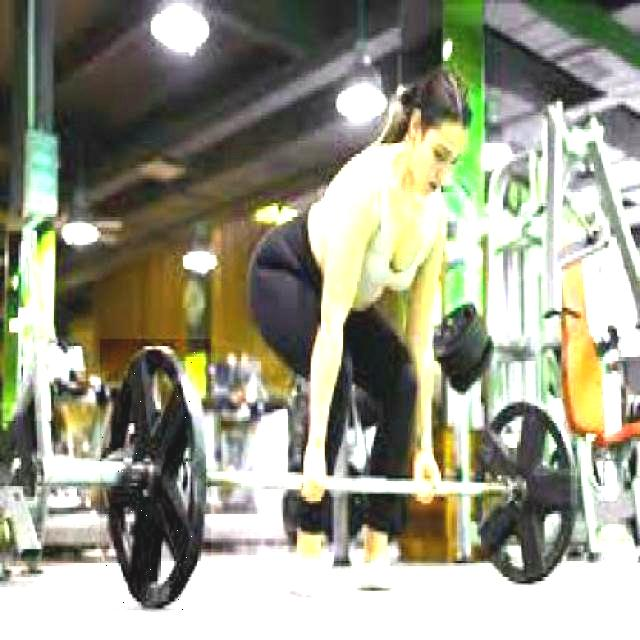barbell: (101, 340, 212, 610)
